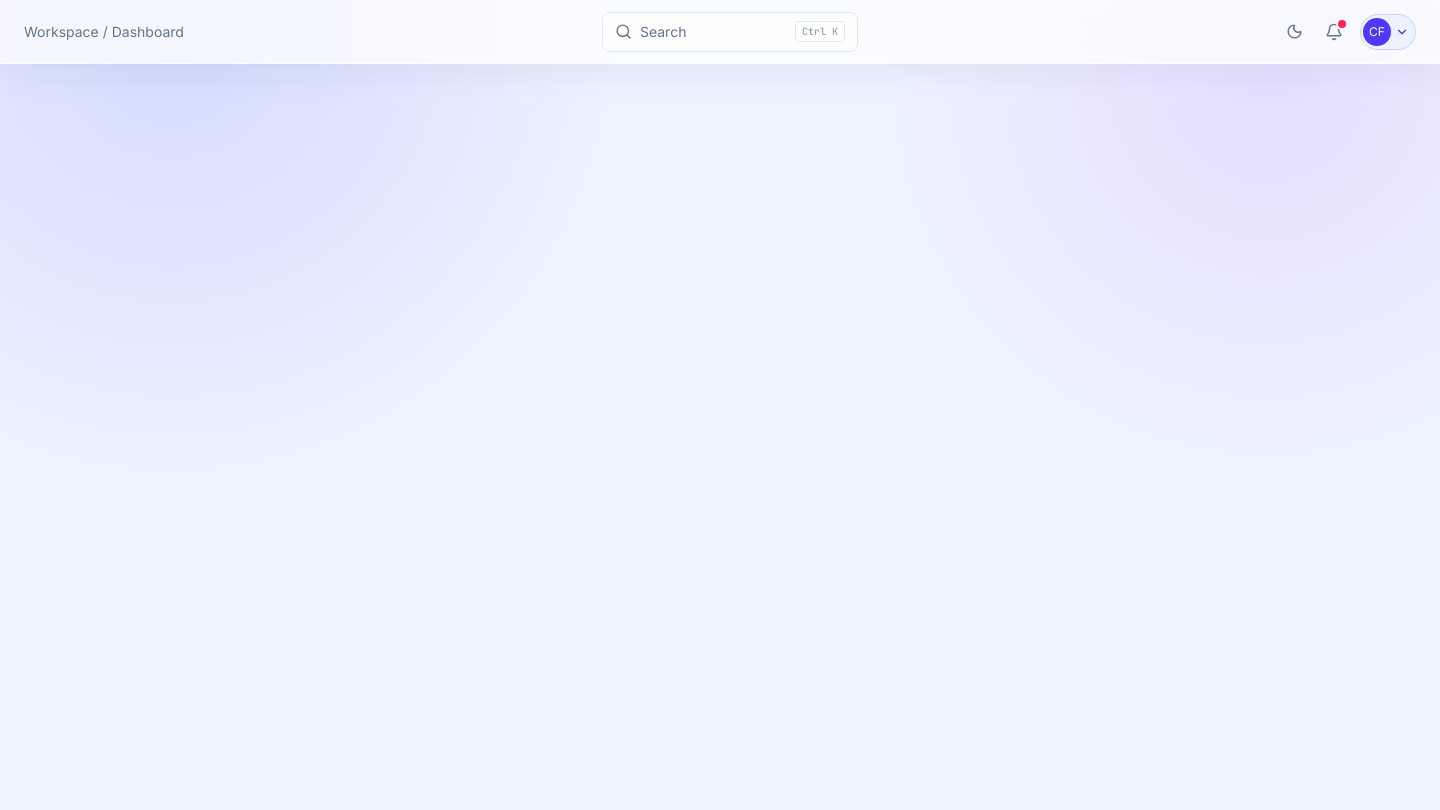
Test: AppHeader › opens the ClickFlow command palette from the search control
The image size is (1440, 810).
Click the button with aria-label "Search ClickFlow" at (730, 32), box [602, 12, 858, 52]
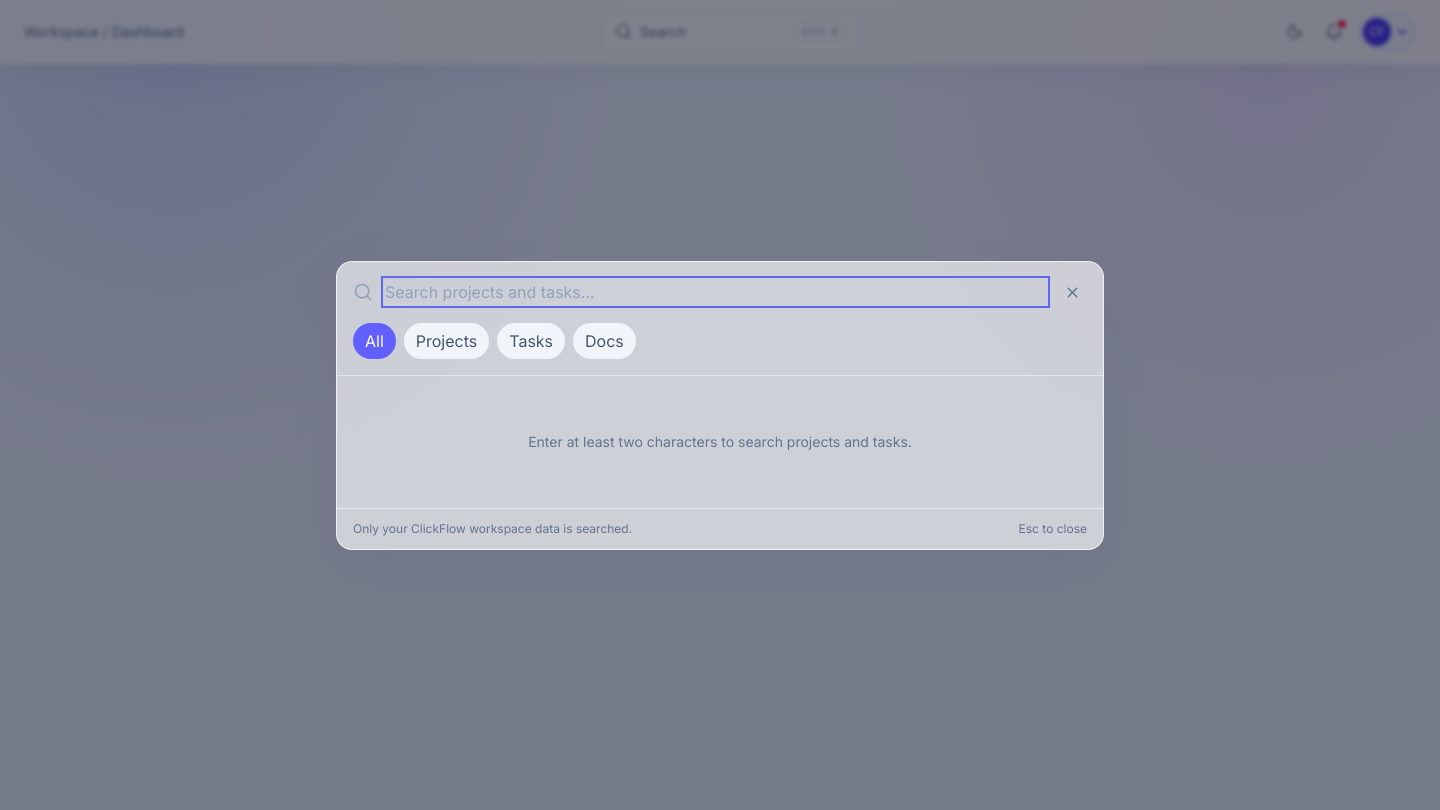
Check: the dialog named "Search ClickFlow" is shown, box [336, 260, 1104, 550]
